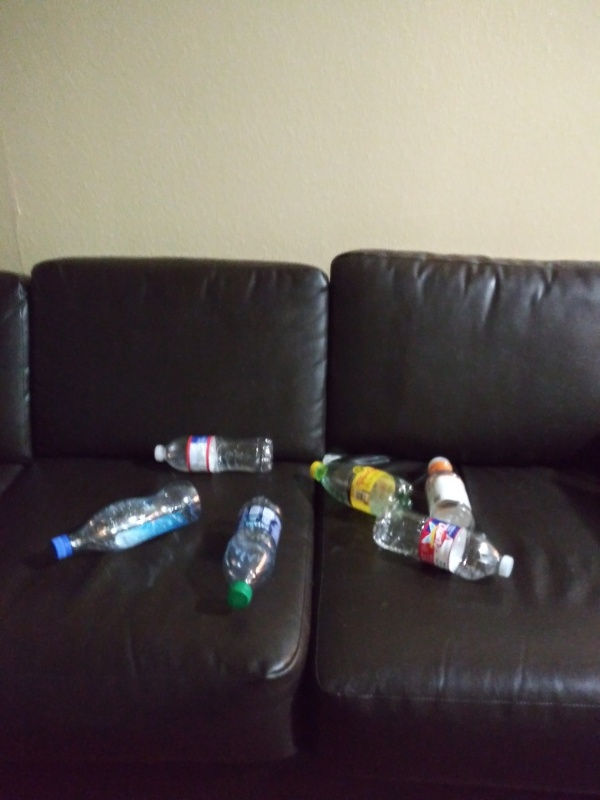bottle: (44, 474, 208, 568), (368, 501, 515, 583), (221, 492, 290, 612), (302, 457, 419, 516), (150, 430, 278, 478), (423, 452, 481, 538)
